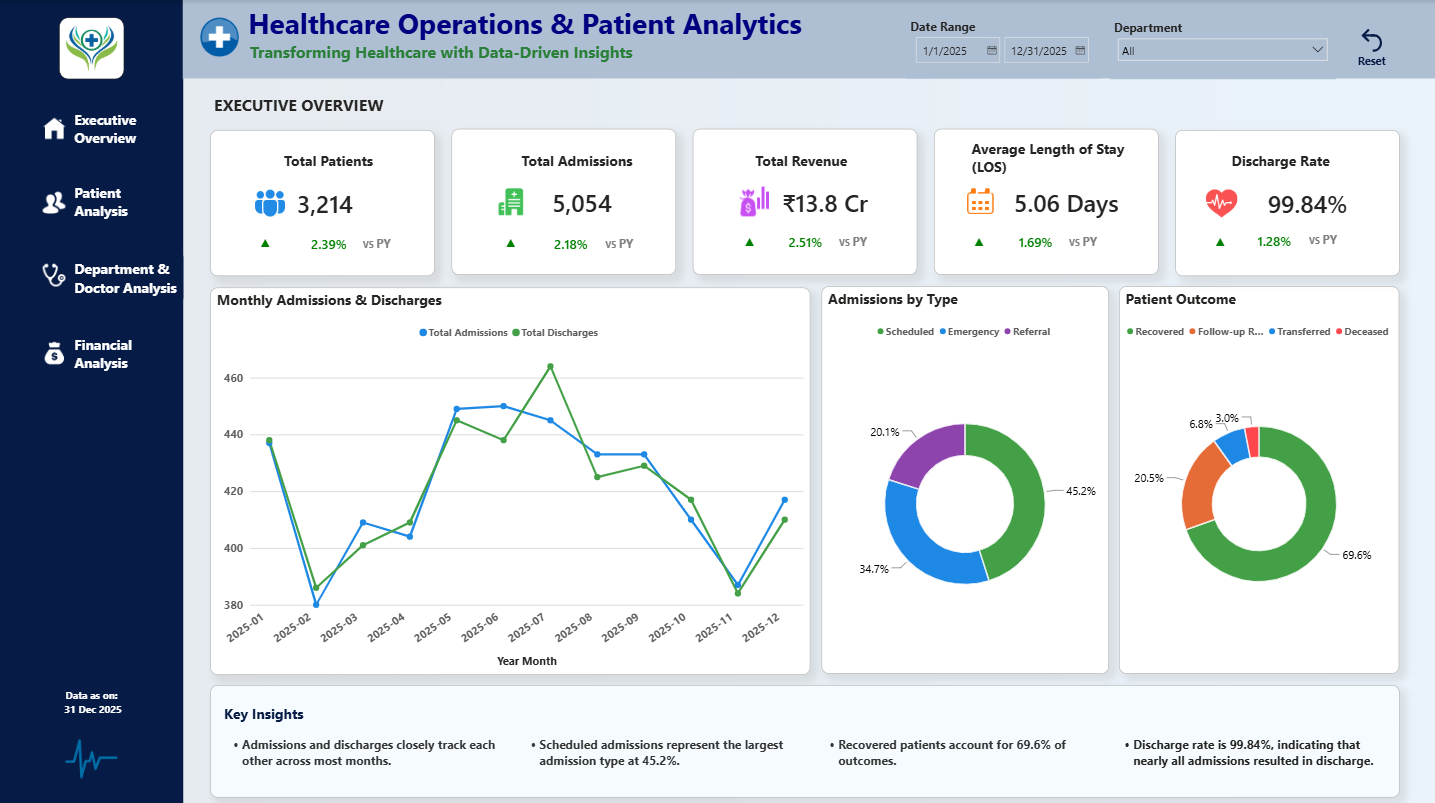

The page's visual inventory and layout, read from the dashboard file:
{"tool":"powerbi","page":{"name":"Executive Overview","canvas":[1920,1080],"ordinal":0},"visuals":[{"type":"cardVisual","fields":{"Data":["Admissions.Patients in Period"]},"box":[282.1,173.7,300,195.4],"z":0},{"type":"shape","box":[0,0,246.1,1078.6],"z":1000},{"type":"textbox","box":[246.1,0,1673.9,105],"z":2000},{"type":"image","box":[79.6,23.5,86.9,82],"z":3000},{"type":"shape","box":[97.7,139.3,95.9,65.1],"z":4000},{"type":"image","box":[54.3,157.4,37.4,30.2],"z":5000},{"type":"shape","box":[97.7,235.3,133.9,67],"z":6000},{"type":"image","box":[54.3,255.2,37,30],"z":7000},{"type":"shape","box":[97.7,336.6,148.4,67],"z":8000},{"type":"image","box":[54.3,352.9,37,30],"z":9000},{"type":"shape","box":[97.7,439.7,108.6,65.1],"z":10000},{"type":"image","box":[54.3,447,37.4,48.3],"z":11000},{"type":"image","box":[14.5,979,217,70],"z":12000},{"type":"image","box":[264.2,23.5,61.5,59.7],"z":13000},{"type":"textbox","box":[282.3,119.4,250,39.8],"z":14000},{"type":"textbox","box":[376.4,197.3,137.5,38],"z":15000},{"type":"slicer","title":"Date Range","fields":{"Values":["DateTable.Date"]},"box":[1212.5,23.5,260,81.4],"z":16000},{"type":"cardVisual","fields":{"Data":["Admissions.Patients YoY %"]},"box":[381.8,295,99.5,57.9],"z":17000},{"type":"textbox","box":[481,308.6,69,36.3],"z":18000},{"type":"cardVisual","fields":{"Data":["Admissions.Patients YoY Arrow"]},"box":[331.2,295,50.7,55],"z":19000},{"type":"cardVisual","fields":{"Data":["Admissions.Admissions in Period"]},"box":[604.3,171.9,300,195],"z":20000},{"type":"textbox","box":[693.1,197.3,166.5,38],"z":21000},{"type":"cardVisual","fields":{"Data":["Admissions.Admissions YoY %"]},"box":[685.9,295,117.6,57.9],"z":22000},{"type":"textbox","box":[804.1,308.6,69,36.3],"z":23000},{"type":"cardVisual","fields":{"Data":["Admissions.Admissions YoY Arrow"]},"box":[656.9,295,55,55],"z":24000},{"type":"cardVisual","fields":{"Data":["Admissions.Total Revenue Display"]},"box":[926.4,171.9,300,195],"z":25000},{"type":"textbox","box":[1005.6,197.8,162.9,38],"z":26000},{"type":"cardVisual","fields":{"Data":["Admissions.Revenue YoY Arrow"]},"box":[978.4,294.5,48.4,54.5],"z":27000},{"type":"cardVisual","fields":{"Data":["Admissions.Revenue YoY %"]},"box":[1013.9,285.9,103.2,72.4],"z":28000},{"type":"textbox","box":[1117.1,305.8,70,36.2],"z":29000},{"type":"cardVisual","fields":{"Data":["Admissions.Average LOS Display"]},"box":[1248.6,171.9,300,195.4],"z":30000},{"type":"textbox","box":[1294.7,181,217.2,59.7],"z":31000},{"type":"cardVisual","fields":{"Data":["Admissions.Average LOS YoY Arrow"]},"box":[1283.8,296.8,50,50.7],"z":32000},{"type":"cardVisual","fields":{"Data":["Admissions.Average LOS YoY %"]},"box":[1334.5,295,90.5,52.5],"z":33000},{"type":"textbox","box":[1425,305.8,70,36.2],"z":34000},{"type":"lineChart","title":"Monthly Admissions & Discharges","fields":{"Category":["DateTable.Year Month"],"Y":["Patients.Total Admissions","Admissions.Total Discharges"]},"box":[282.3,383.6,801.7,517.6],"z":35000},{"type":"donutChart","title":"Admissions by Type","fields":{"Category":["Admissions.AdmissionType"],"Y":["Patients.Total Admissions"]},"box":[1098.5,381.8,383.6,517.6],"z":36000},{"type":"donutChart","title":"Patient Outcome","fields":{"Category":["Admissions.Outcome"],"Y":["Patients.Total Admissions"]},"box":[1496.6,381.8,374.6,517.6],"z":37000},{"type":"shape","box":[282.3,915.7,1588.9,150.2],"z":38000},{"type":"slicer","title":"Department","fields":{"Values":["Departments.DepartmentName"]},"box":[1484.5,25.3,300.4,81],"z":39000},{"type":"actionButton","box":[1797,25.3,74.2,77.8],"z":40000},{"type":"textbox","box":[295,979,380,67],"z":41000},{"type":"textbox","box":[693.7,979,380,67],"z":42000},{"type":"textbox","box":[295,935.6,300.4,52.5],"z":43000},{"type":"textbox","box":[1092.4,979,380,67],"z":44000},{"type":"textbox","box":[1486.7,978.4,379.2,68.6],"z":45000},{"type":"textbox","box":[14.5,915.7,217.2,54.3],"z":46000},{"type":"actionButton","box":[39.8,139.8,166.5,65.1],"z":47000},{"type":"actionButton","box":[39.8,239.2,166.5,65.1],"z":48000},{"type":"actionButton","box":[39.8,338.6,206.3,65.1],"z":49000},{"type":"actionButton","box":[39.8,437.9,166.5,65.1],"z":50000},{"type":"cardVisual","fields":{"Data":["Admissions.Discharge Rate Display"]},"box":[1570.8,173.7,300,195.4],"z":51000},{"type":"textbox","box":[1640.8,197.8,162.9,38],"z":52000},{"type":"cardVisual","fields":{"Data":["Admissions.Discharge Rate YoY Arrow"]},"box":[1605.7,296.5,50.4,50.4],"z":53000},{"type":"cardVisual","fields":{"Data":["Admissions.Discharge Rate YoY %"]},"box":[1653.5,294,90.5,52.5],"z":54000},{"type":"textbox","box":[1744.5,304,70.6,36.2],"z":55000}]}

Visuals, with their boxes in screenshot pixels (x1, y1, x2, y2), scaled from the page's 1920x1080 canvas onto the 1435x803 screenshot:
cardVisual - Admissions.Patients in Period: (211, 129, 435, 274)
shape: (0, 0, 184, 802)
textbox: (184, 0, 1434, 78)
image: (59, 17, 124, 78)
shape: (73, 104, 145, 152)
image: (41, 117, 69, 139)
shape: (73, 175, 173, 225)
image: (41, 190, 68, 212)
shape: (73, 250, 184, 300)
image: (41, 262, 68, 285)
shape: (73, 327, 154, 375)
image: (41, 332, 69, 368)
image: (11, 728, 173, 780)
image: (197, 17, 243, 62)
textbox: (211, 89, 398, 118)
textbox: (281, 147, 384, 175)
"Date Range" slicer: (906, 17, 1101, 78)
cardVisual - Admissions.Patients YoY %: (285, 219, 360, 262)
textbox: (359, 229, 411, 256)
cardVisual - Admissions.Patients YoY Arrow: (248, 219, 285, 260)
cardVisual - Admissions.Admissions in Period: (452, 128, 676, 273)
textbox: (518, 147, 642, 175)
cardVisual - Admissions.Admissions YoY %: (513, 219, 601, 262)
textbox: (601, 229, 653, 256)
cardVisual - Admissions.Admissions YoY Arrow: (491, 219, 532, 260)
cardVisual - Admissions.Total Revenue Display: (692, 128, 917, 273)
textbox: (752, 147, 873, 175)
cardVisual - Admissions.Revenue YoY Arrow: (731, 219, 767, 259)
cardVisual - Admissions.Revenue YoY %: (758, 213, 835, 266)
textbox: (835, 227, 887, 254)
cardVisual - Admissions.Average LOS Display: (933, 128, 1157, 273)
textbox: (968, 135, 1130, 179)
cardVisual - Admissions.Average LOS YoY Arrow: (960, 221, 997, 258)
cardVisual - Admissions.Average LOS YoY %: (997, 219, 1065, 258)
textbox: (1065, 227, 1117, 254)
"Monthly Admissions & Discharges" lineChart: (211, 285, 810, 670)
"Admissions by Type" donutChart: (821, 284, 1108, 669)
"Patient Outcome" donutChart: (1119, 284, 1399, 669)
shape: (211, 681, 1399, 793)
"Department" slicer: (1110, 19, 1334, 79)
actionButton: (1343, 19, 1399, 77)
textbox: (220, 728, 504, 778)
textbox: (518, 728, 802, 778)
textbox: (220, 696, 445, 735)
textbox: (816, 728, 1100, 778)
textbox: (1111, 727, 1395, 778)
textbox: (11, 681, 173, 721)
actionButton: (30, 104, 154, 152)
actionButton: (30, 178, 154, 226)
actionButton: (30, 252, 184, 300)
actionButton: (30, 326, 154, 374)
cardVisual - Admissions.Discharge Rate Display: (1174, 129, 1398, 274)
textbox: (1226, 147, 1348, 175)
cardVisual - Admissions.Discharge Rate YoY Arrow: (1200, 220, 1238, 258)
cardVisual - Admissions.Discharge Rate YoY %: (1236, 219, 1303, 258)
textbox: (1304, 226, 1357, 253)
